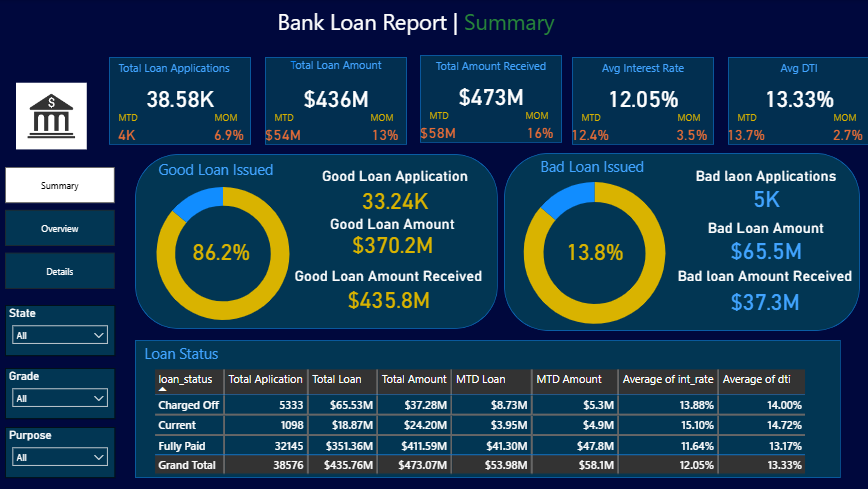

The dashboard page shown, as its layout file describes it:
{"tool":"powerbi","page":{"name":"Summary","canvas":[1280,720],"ordinal":0},"visuals":[{"type":"group","id":"g1","title":"Group 1","box":[603.9,83.8,223.3,129.3],"z":0},{"type":"shape","box":[618.6,83.8,208.7,129.3],"z":0,"group":"g1"},{"type":"shape","box":[390.9,84.5,208.7,129.3],"z":0,"group":"g2"},{"type":"shape","box":[161.6,85.2,208.7,129.3],"z":0,"group":"g4"},{"type":"shape","box":[842,85.2,208.7,129.3],"z":0,"group":"g3"},{"type":"shape","box":[1071.2,85.2,208.7,129.3],"z":0,"group":"g5"},{"type":"advanceCardE03760C5AB684758B56AA29F9E6C257B","fields":{"mainMeasure":["financial_loan.Total Amount"]},"box":[661.2,119.1,123.4,54.4],"z":1000,"group":"g1"},{"type":"advanceCardE03760C5AB684758B56AA29F9E6C257B","fields":{"mainMeasure":["financial_loan.Total Loan"]},"box":[433.5,119.8,123.4,54.4],"z":1000,"group":"g2"},{"type":"advanceCardE03760C5AB684758B56AA29F9E6C257B","fields":{"mainMeasure":["financial_loan.Total Aplication"]},"box":[204.2,120.5,123.4,54.4],"z":1000,"group":"g4"},{"type":"advanceCardE03760C5AB684758B56AA29F9E6C257B","fields":{"mainMeasure":["financial_loan.Avg int"]},"box":[884.6,120.5,123.4,54.4],"z":1000,"group":"g3"},{"type":"advanceCardE03760C5AB684758B56AA29F9E6C257B","fields":{"mainMeasure":["Avg(financial_loan.dti)"]},"box":[1113.8,120.5,123.4,54.4],"z":1000,"group":"g5"},{"type":"shape","box":[199.8,501.1,1037.4,202.8],"z":1000},{"type":"group","id":"g2","title":"Group 1","box":[376.2,80.8,223.3,133.7],"z":2000},{"type":"advanceCardE03760C5AB684758B56AA29F9E6C257B","fields":{"mainMeasure":["financial_loan.MTD Amount"]},"box":[603.9,185.2,82.3,27.9],"z":2000,"group":"g1"},{"type":"advanceCardE03760C5AB684758B56AA29F9E6C257B","fields":{"mainMeasure":["financial_loan.MTD Loan"]},"box":[376.2,185.9,82.3,27.9],"z":2000,"group":"g2"},{"type":"advanceCardE03760C5AB684758B56AA29F9E6C257B","fields":{"mainMeasure":["financial_loan.MTD Application"]},"box":[146.9,186.6,82.3,27.9],"z":2000,"group":"g4"},{"type":"advanceCardE03760C5AB684758B56AA29F9E6C257B","fields":{"mainMeasure":["financial_loan.MTD int"]},"box":[827.3,186.6,82.3,27.9],"z":2000,"group":"g3"},{"type":"advanceCardE03760C5AB684758B56AA29F9E6C257B","fields":{"mainMeasure":["financial_loan.MTD dti"]},"box":[1056.5,186.6,82.3,27.9],"z":2000,"group":"g5"},{"type":"group","id":"g3","title":"Group 1","box":[827.3,85.2,223.3,129.3],"z":3000},{"type":"advanceCardE03760C5AB684758B56AA29F9E6C257B","fields":{"mainMeasure":["financial_loan.MOM Amount"]},"box":[762.6,183.7,64.7,29.4],"z":3000,"group":"g1"},{"type":"advanceCardE03760C5AB684758B56AA29F9E6C257B","fields":{"mainMeasure":["financial_loan.MOM Loan"]},"box":[534.9,184.5,64.7,29.4],"z":3000,"group":"g2"},{"type":"advanceCardE03760C5AB684758B56AA29F9E6C257B","fields":{"mainMeasure":["financial_loan.MOM App"]},"box":[305.6,185.1,64.7,29.4],"z":3000,"group":"g4"},{"type":"advanceCardE03760C5AB684758B56AA29F9E6C257B","fields":{"mainMeasure":["financial_loan.MOM int"]},"box":[986,185.1,64.7,29.4],"z":3000,"group":"g3"},{"type":"advanceCardE03760C5AB684758B56AA29F9E6C257B","fields":{"mainMeasure":["financial_loan.MOM dti"]},"box":[1215.2,185.1,64.7,29.4],"z":3000,"group":"g5"},{"type":"textbox","box":[401.1,80.8,188.1,39.7],"z":4000,"group":"g2"},{"type":"textbox","box":[627.4,83.8,191,35.3],"z":4000,"group":"g1"},{"type":"group","id":"g4","title":"Group 1","box":[146.9,85.2,223.3,129.3],"z":4000},{"type":"textbox","box":[170.4,85.2,191,35.3],"z":4000,"group":"g4"},{"type":"textbox","box":[850.8,85.2,191,35.3],"z":4000,"group":"g3"},{"type":"textbox","box":[1080,85.2,191,35.3],"z":4000,"group":"g5"},{"type":"group","id":"g5","title":"Group 1","box":[1056.5,85.2,223.3,129.3],"z":5000},{"type":"textbox","box":[627.4,158.7,47,27.9],"z":5000,"group":"g1"},{"type":"textbox","box":[399.7,159.5,47,27.9],"z":5000,"group":"g2"},{"type":"textbox","box":[170.4,160.1,47,27.9],"z":5000,"group":"g4"},{"type":"textbox","box":[850.8,160.1,47,27.9],"z":5000,"group":"g3"},{"type":"textbox","box":[1080,160.1,47,27.9],"z":5000,"group":"g5"},{"type":"textbox","box":[404.1,5.9,476.1,97],"z":6000},{"type":"textbox","box":[768.5,158.7,52.9,27.9],"z":6000,"group":"g1"},{"type":"textbox","box":[540.8,159.5,52.9,27.9],"z":6000,"group":"g2"},{"type":"textbox","box":[311.5,160.1,52.9,27.9],"z":6000,"group":"g4"},{"type":"textbox","box":[991.9,160.1,52.9,27.9],"z":6000,"group":"g3"},{"type":"textbox","box":[1221.1,160.1,52.9,27.9],"z":6000,"group":"g5"},{"type":"shape","box":[199.8,227.8,533.4,257.1],"z":7000},{"type":"donutChart","fields":{"Category":["financial_loan.Good Vs Bad"],"Y":["financial_loan.Total Aplication"]},"box":[157.2,246.9,343.8,254.2],"z":8000},{"type":"shape","box":[742,226.3,523.1,261.6],"z":9000},{"type":"donutChart","fields":{"Category":["financial_loan.Good Vs Bad"],"Y":["financial_loan.Total Aplication"]},"box":[699.4,238,351.2,270.4],"z":10000},{"type":"advanceCardE03760C5AB684758B56AA29F9E6C257B","title":"Good Loan Application","fields":{"mainMeasure":["financial_loan.Good App"]},"box":[458.4,246.9,246.9,76.4],"z":11000},{"type":"advanceCardE03760C5AB684758B56AA29F9E6C257B","title":"Bad laon Applications","fields":{"mainMeasure":["financial_loan.Bad App"]},"box":[1009.5,246.9,235.1,70.5],"z":12000},{"type":"advanceCardE03760C5AB684758B56AA29F9E6C257B","fields":{"mainMeasure":["financial_loan.Good Loan %"]},"box":[235.1,304.2,182.2,135.2],"z":13000},{"type":"advanceCardE03760C5AB684758B56AA29F9E6C257B","fields":{"mainMeasure":["financial_loan.Bad Loan %"]},"box":[781.7,296.8,186.6,149.9],"z":14000},{"type":"advanceCardE03760C5AB684758B56AA29F9E6C257B","title":"Good Loan Amount","fields":{"mainMeasure":["financial_loan.Good Loan"]},"box":[446.7,317.4,263,66.1],"z":15000},{"type":"advanceCardE03760C5AB684758B56AA29F9E6C257B","title":"Bad Loan Amount","fields":{"mainMeasure":["financial_loan.Bad Loan"]},"box":[1021.2,323.3,211.6,72],"z":16000},{"type":"advanceCardE03760C5AB684758B56AA29F9E6C257B","title":"Good  Loan Amount Received","fields":{"mainMeasure":["financial_loan.Good Loan Amount Received"]},"box":[426.1,393.8,292.4,74.9],"z":17000},{"type":"advanceCardE03760C5AB684758B56AA29F9E6C257B","title":"Bad loan Amount Received","fields":{"mainMeasure":["financial_loan.Bad Amount"]},"box":[986,393.8,279.2,80.8],"z":18000},{"type":"tableEx","fields":{"Values":["financial_loan.loan_status","financial_loan.Total Aplication","financial_loan.Total Loan","financial_loan.Total Amount","financial_loan.MTD Loan","financial_loan.MTD Amount","Avg(financial_loan.int_rate)","Avg(financial_loan.dti)"]},"box":[223.3,539.3,990.4,180.7],"z":19000},{"type":"textbox","box":[229.2,230.7,204.2,57.3],"z":20000},{"type":"textbox","box":[790.5,226.3,195.4,41.1],"z":21000},{"type":"textbox","box":[208.7,501.1,195.4,41.1],"z":22000},{"type":"slicer","title":"State","fields":{"Values":["financial_loan.address_state"]},"box":[0,412.9,161.6,61.7],"z":23000},{"type":"slicer","title":"Grade","fields":{"Values":["financial_loan.grade"]},"box":[0,521.6,161.6,70.5],"z":24000},{"type":"slicer","title":"Purpose","fields":{"Values":["financial_loan.purpose"]},"box":[0,630.4,161.6,63.2],"z":25000},{"type":"image","box":[20.6,45.6,98.4,102.9],"z":26000},{"type":"pageNavigator","box":[0,180.7,157.2,179.3],"z":27000}]}

Visuals, with their boxes in screenshot pixels (x1, y1, x2, y2), scaled from the page's 1280x720 canvas onto the 868x489 screenshot:
"Group 1" group: <box>410,57,561,145</box>
shape: <box>419,57,561,145</box>
shape: <box>265,57,407,145</box>
shape: <box>110,58,251,146</box>
shape: <box>571,58,713,146</box>
shape: <box>726,58,867,146</box>
advanceCardE03760C5AB684758B56AA29F9E6C257B - financial_loan.Total Amount: <box>448,81,532,118</box>
advanceCardE03760C5AB684758B56AA29F9E6C257B - financial_loan.Total Loan: <box>294,81,378,118</box>
advanceCardE03760C5AB684758B56AA29F9E6C257B - financial_loan.Total Aplication: <box>138,82,222,119</box>
advanceCardE03760C5AB684758B56AA29F9E6C257B - financial_loan.Avg int: <box>600,82,684,119</box>
advanceCardE03760C5AB684758B56AA29F9E6C257B - Avg(financial_loan.dti): <box>755,82,839,119</box>
shape: <box>135,340,839,478</box>
"Group 1" group: <box>255,55,407,146</box>
advanceCardE03760C5AB684758B56AA29F9E6C257B - financial_loan.MTD Amount: <box>410,126,465,145</box>
advanceCardE03760C5AB684758B56AA29F9E6C257B - financial_loan.MTD Loan: <box>255,126,311,145</box>
advanceCardE03760C5AB684758B56AA29F9E6C257B - financial_loan.MTD Application: <box>100,127,155,146</box>
advanceCardE03760C5AB684758B56AA29F9E6C257B - financial_loan.MTD int: <box>561,127,617,146</box>
advanceCardE03760C5AB684758B56AA29F9E6C257B - financial_loan.MTD dti: <box>716,127,772,146</box>
"Group 1" group: <box>561,58,712,146</box>
advanceCardE03760C5AB684758B56AA29F9E6C257B - financial_loan.MOM Amount: <box>517,125,561,145</box>
advanceCardE03760C5AB684758B56AA29F9E6C257B - financial_loan.MOM Loan: <box>363,125,407,145</box>
advanceCardE03760C5AB684758B56AA29F9E6C257B - financial_loan.MOM App: <box>207,126,251,146</box>
advanceCardE03760C5AB684758B56AA29F9E6C257B - financial_loan.MOM int: <box>669,126,713,146</box>
advanceCardE03760C5AB684758B56AA29F9E6C257B - financial_loan.MOM dti: <box>824,126,867,146</box>
textbox: <box>272,55,400,82</box>
textbox: <box>425,57,555,81</box>
"Group 1" group: <box>100,58,251,146</box>
textbox: <box>116,58,245,82</box>
textbox: <box>577,58,706,82</box>
textbox: <box>732,58,862,82</box>
"Group 1" group: <box>716,58,867,146</box>
textbox: <box>425,108,457,127</box>
textbox: <box>271,108,303,127</box>
textbox: <box>116,109,147,128</box>
textbox: <box>577,109,609,128</box>
textbox: <box>732,109,764,128</box>
textbox: <box>274,4,597,70</box>
textbox: <box>521,108,557,127</box>
textbox: <box>367,108,403,127</box>
textbox: <box>211,109,247,128</box>
textbox: <box>673,109,709,128</box>
textbox: <box>828,109,864,128</box>
shape: <box>135,155,497,329</box>
donutChart - financial_loan.Good Vs Bad x financial_loan.Total Aplication: <box>107,168,340,340</box>
shape: <box>503,154,858,331</box>
donutChart - financial_loan.Good Vs Bad x financial_loan.Total Aplication: <box>474,162,712,345</box>
"Good Loan Application" advanceCardE03760C5AB684758B56AA29F9E6C257B: <box>311,168,478,220</box>
"Bad laon Applications" advanceCardE03760C5AB684758B56AA29F9E6C257B: <box>685,168,844,216</box>
advanceCardE03760C5AB684758B56AA29F9E6C257B - financial_loan.Good Loan %: <box>159,207,283,298</box>
advanceCardE03760C5AB684758B56AA29F9E6C257B - financial_loan.Bad Loan %: <box>530,202,657,303</box>
"Good Loan Amount" advanceCardE03760C5AB684758B56AA29F9E6C257B: <box>303,216,481,260</box>
"Bad Loan Amount" advanceCardE03760C5AB684758B56AA29F9E6C257B: <box>693,220,836,268</box>
"Good  Loan Amount Received" advanceCardE03760C5AB684758B56AA29F9E6C257B: <box>289,267,487,318</box>
"Bad loan Amount Received" advanceCardE03760C5AB684758B56AA29F9E6C257B: <box>669,267,858,322</box>
tableEx - financial_loan.loan_status x financial_loan.Total Aplication: <box>151,366,823,488</box>
textbox: <box>155,157,294,196</box>
textbox: <box>536,154,669,182</box>
textbox: <box>142,340,274,368</box>
"State" slicer: <box>0,280,110,322</box>
"Grade" slicer: <box>0,354,110,402</box>
"Purpose" slicer: <box>0,428,110,471</box>
image: <box>14,31,81,101</box>
pageNavigator: <box>0,123,107,244</box>
